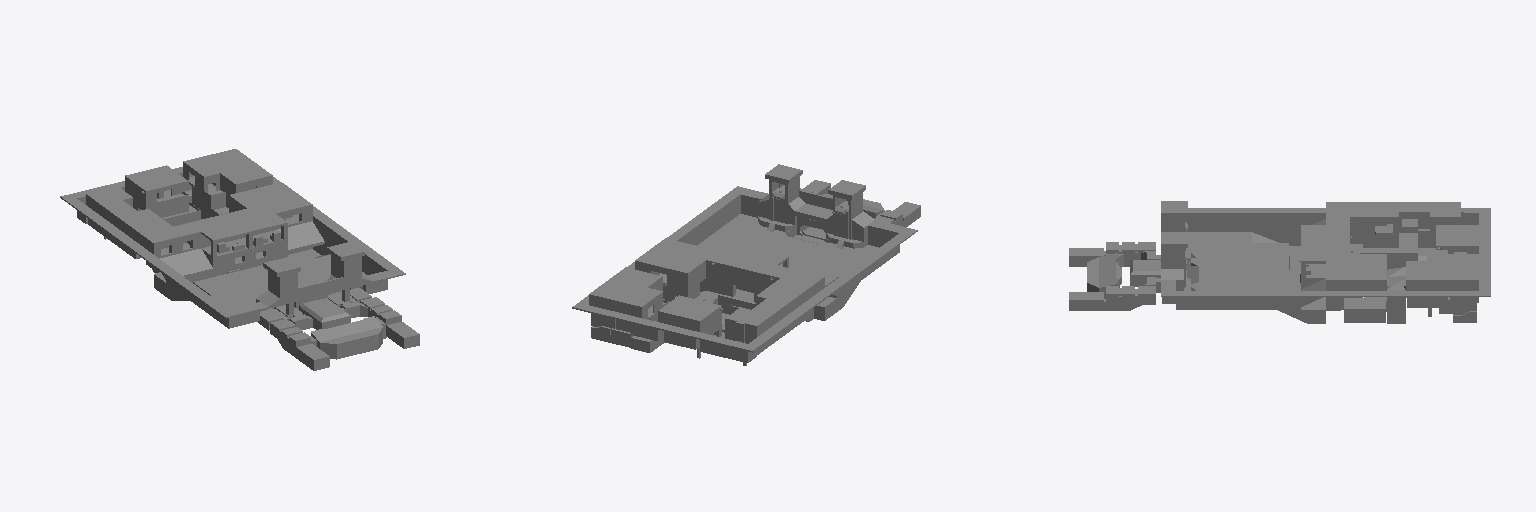
Rendered from crossfire.obj.
3 renders of one model, left to right at view 1: azimuth 30°, elevation 25°; view 2: azimuth 150°, elevation 25°; view 3: azimuth 270°, elevation 25°, orthographic.
Parts seen in each view (by area): view 1: Mesh4 g_BSP_Object_model_0_0_1 skpB990_1 Model; view 2: Mesh4 g_BSP_Object_model_0_0_1 skpB990_1 Model; view 3: Mesh4 g_BSP_Object_model_0_0_1 skpB990_1 Model.
Boxes of the visible parts, box(x1,y1,x2,y2) form: Mesh4 g_BSP_Object_model_0_0_1 skpB990_1 Model: box(60, 149, 419, 370); Mesh4 g_BSP_Object_model_0_0_1 skpB990_1 Model: box(572, 164, 920, 362); Mesh4 g_BSP_Object_model_0_0_1 skpB990_1 Model: box(1069, 201, 1490, 323).
Size of the model in its own units: 55.27 by 21.13 by 112.